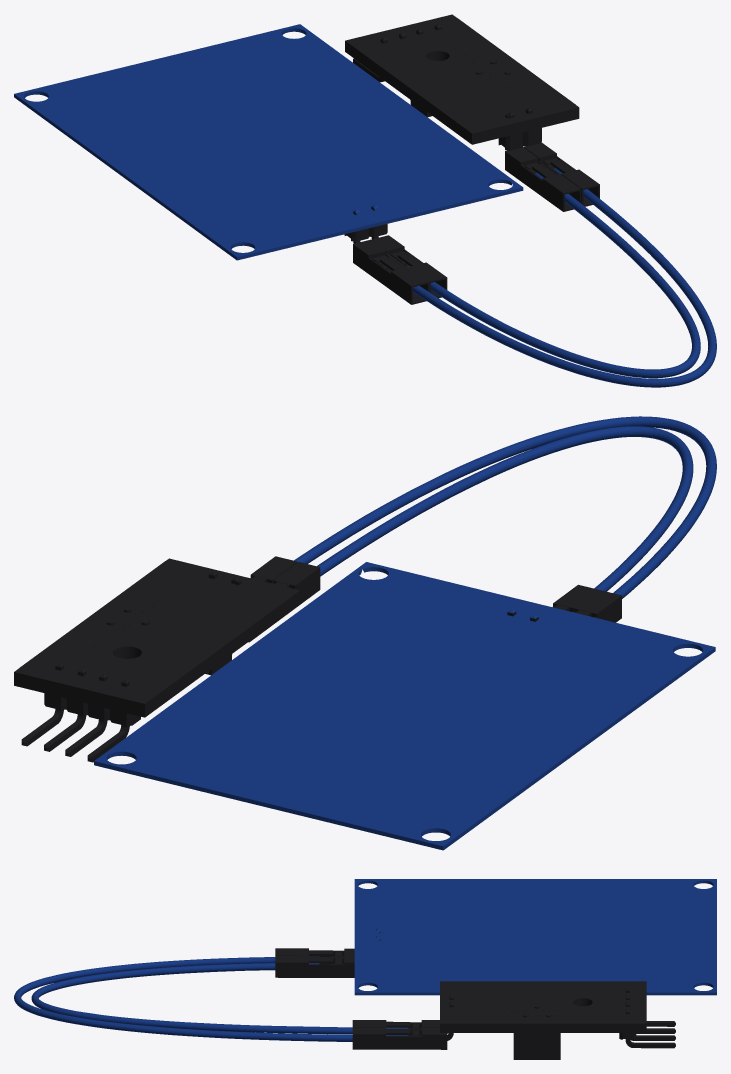
Rendered from rain-sensor.glb.
3 views of the same model, one above another, from view 1: azimuth 30°, elevation 25°; view 2: azimuth 150°, elevation 25°; view 3: azimuth 270°, elevation 25° (orthographic). The views are drawn at different scales.
Visible parts, largest first — view 1: part_0, part_1; view 2: part_0, part_1; view 3: part_0, part_1.
Part boxes in pixels (<box>): part_0: <box>14,24,716,387</box>; part_1: <box>344,14,599,304</box>; part_0: <box>94,416,716,850</box>; part_1: <box>14,556,621,762</box>; part_0: <box>14,879,716,1041</box>; part_1: <box>275,931,675,1059</box>.
Bounding box in the file's own units: 0.0552 × 0.00834 × 0.1047.
